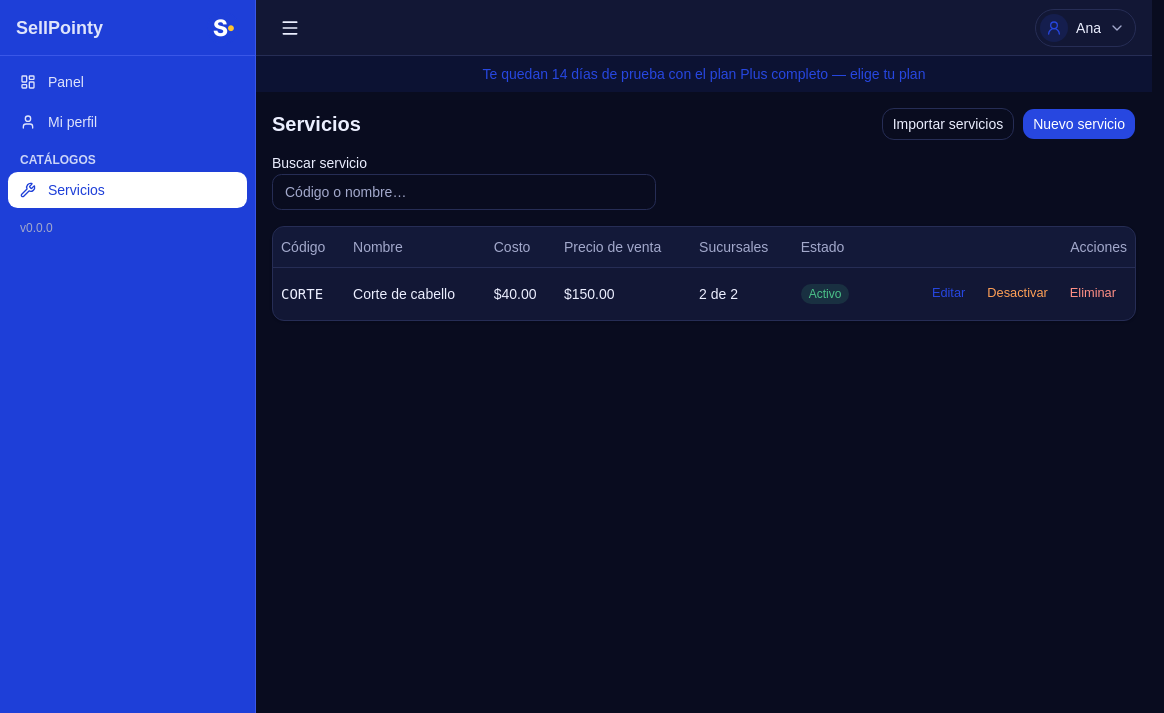
Test case: Catálogo de servicios (F3-SVC-04) › los almacenes donde se ofrece (F3-SVC-08) › «Deseleccionar todos» los quita, y vuelve a ofrecer seleccionarlos
Expected: the text "Corte de cabello" is shown, left=345, top=267, right=486, bottom=320
Click the button "Editar" at (949,294), box left=921, top=280, right=976, bottom=308
(page scrolled)
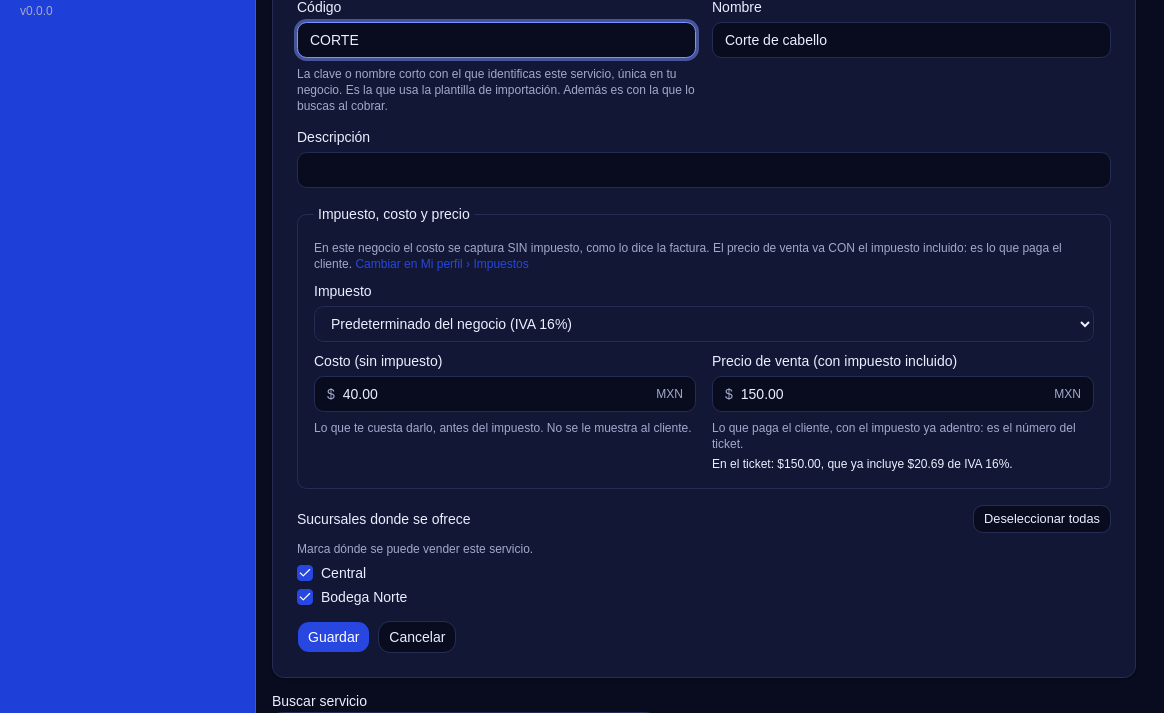
Click the button "Deseleccionar todas" at (1042,519), box left=973, top=505, right=1111, bottom=533
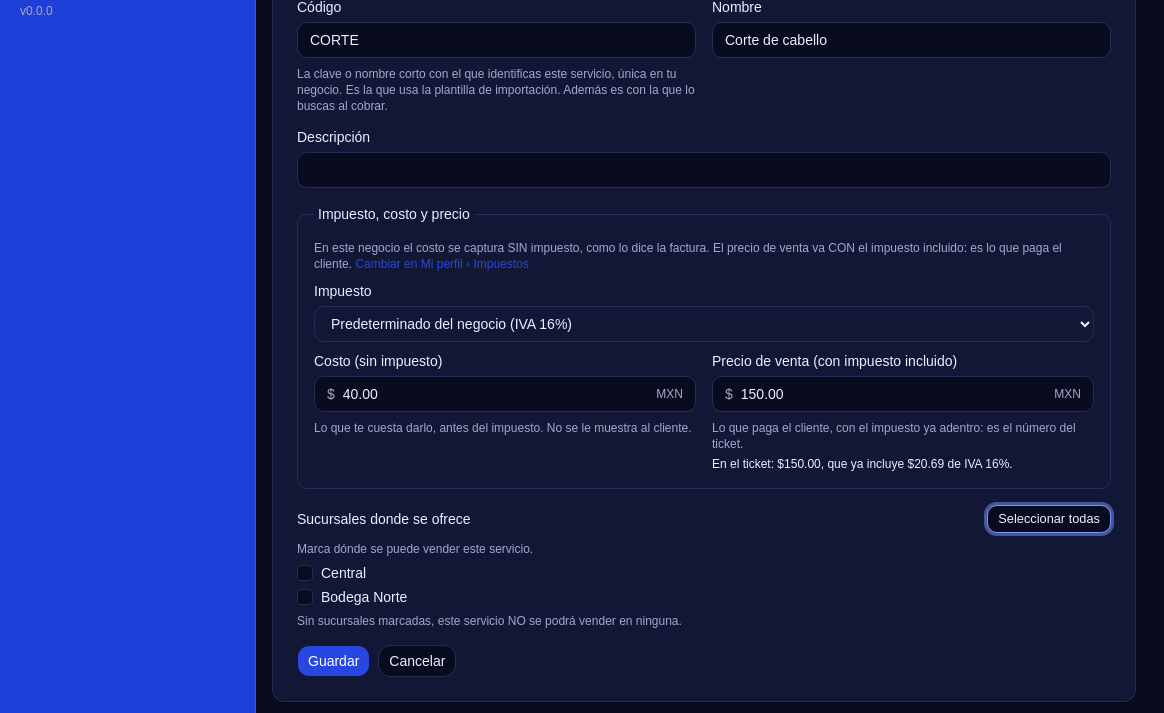
Result: the checkbox with test id "service-warehouse-w1" is not checked at left=297, top=565, right=313, bottom=581
Result: the checkbox with test id "service-warehouse-w2" is not checked at left=297, top=589, right=313, bottom=605
# El botón alterna: con cero marcados ofrece seleccionarlos.
Click the button "Seleccionar todas" at (1049,519), box left=987, top=505, right=1111, bottom=533
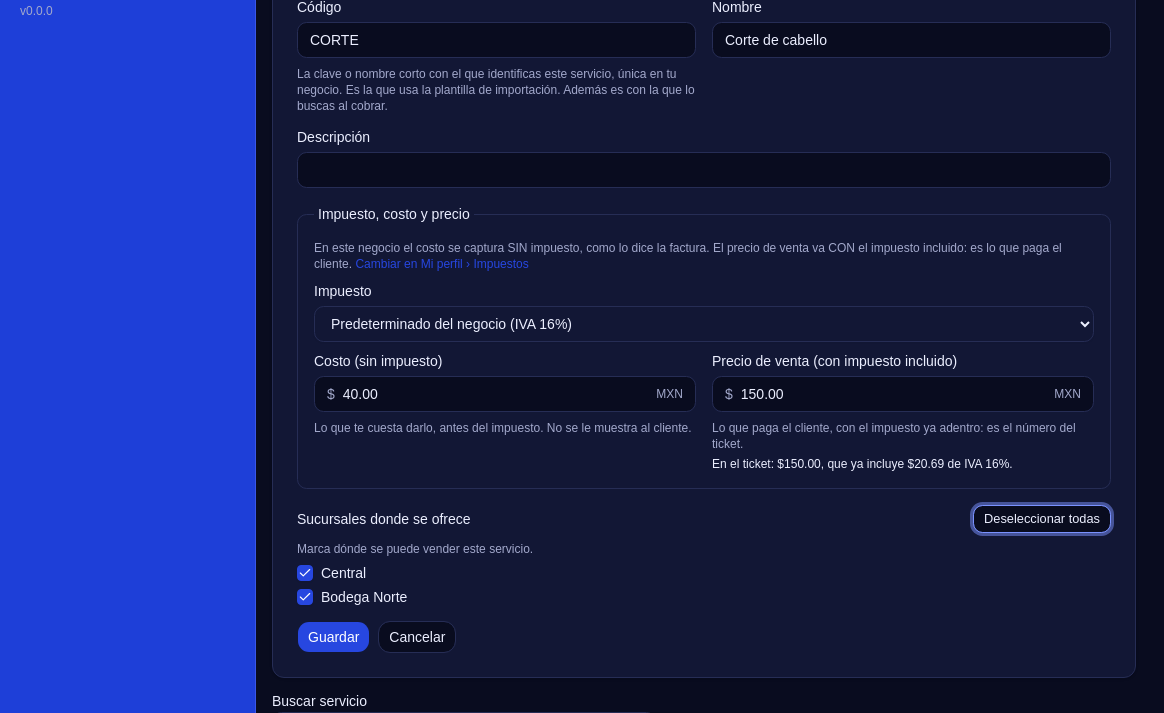
Result: the checkbox with test id "service-warehouse-w1" is checked at left=297, top=565, right=313, bottom=581
